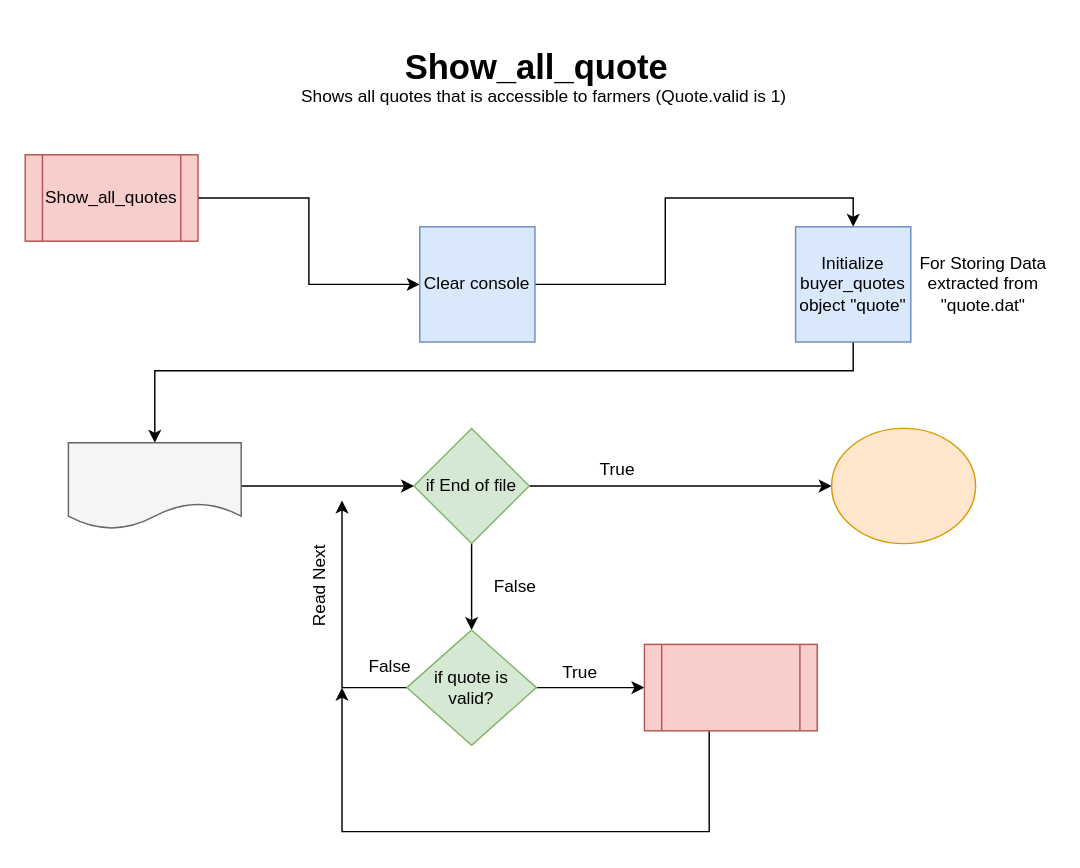
This 1080x868 diagram has some shape labels left out. The centre of each missing label's shape, as x and y in pixels:
Display Quote: pixel 730 687
Open "quote.dat": pixel 154 485
Terminate Proceess: pixel 903 485
